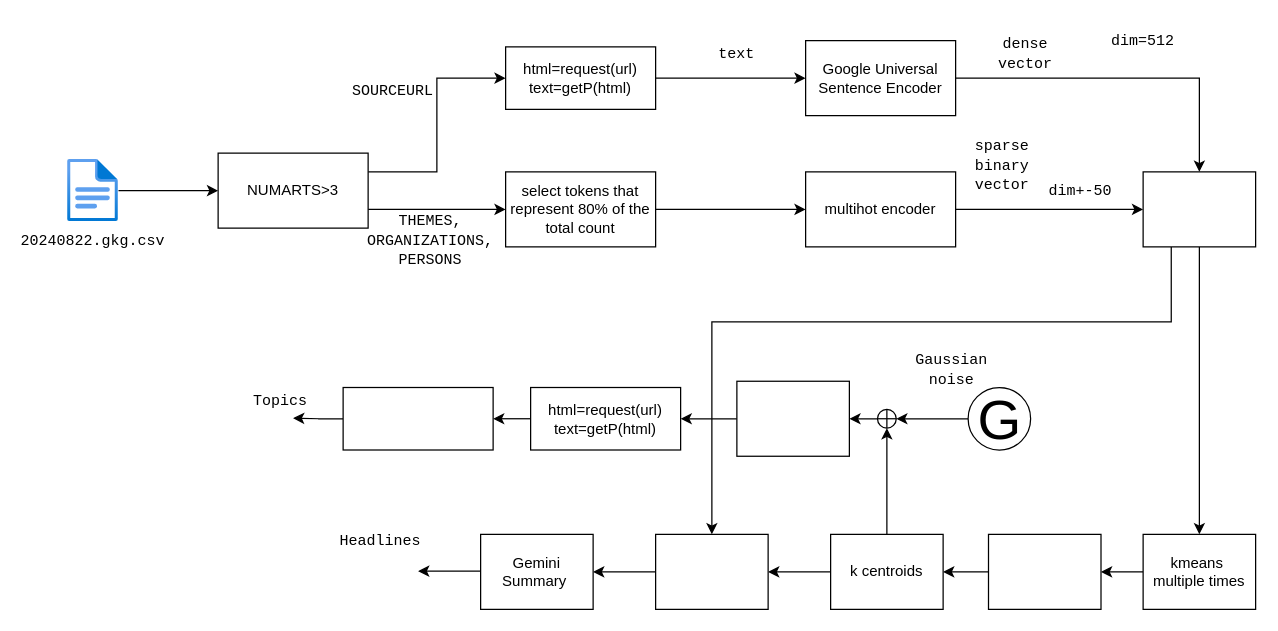
Image size: 1278x631. Some labels were removed from this diagram. Here are the shapes that lost their labels. From the top down, the box of each, then its label:
(1142, 171, 1256, 247): concatenate and normalize
(342, 386, 493, 450): Topic modelling
(736, 380, 849, 456): 10 closes to each noisy centroid
(654, 533, 768, 609): closest k samples to centroids
(987, 533, 1101, 609): Elbow method (optimal k)
